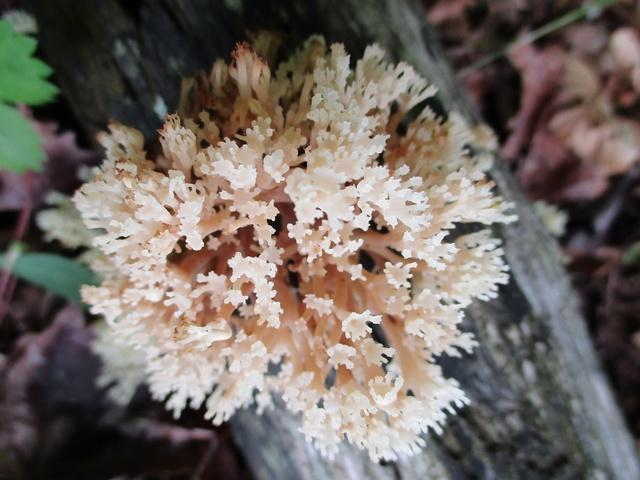Edible Mushroom: (70, 34, 518, 464)
